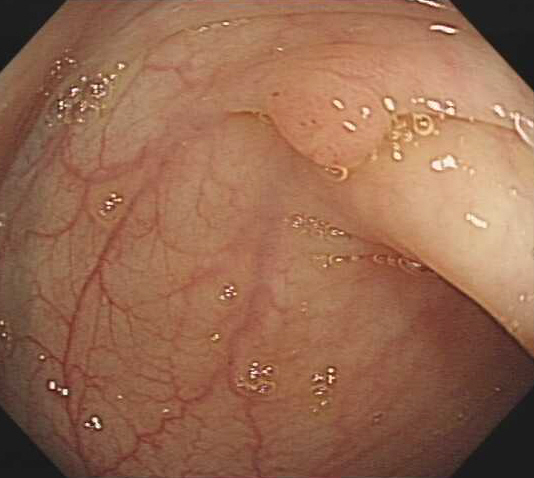adenoma: (255, 66, 395, 170)
